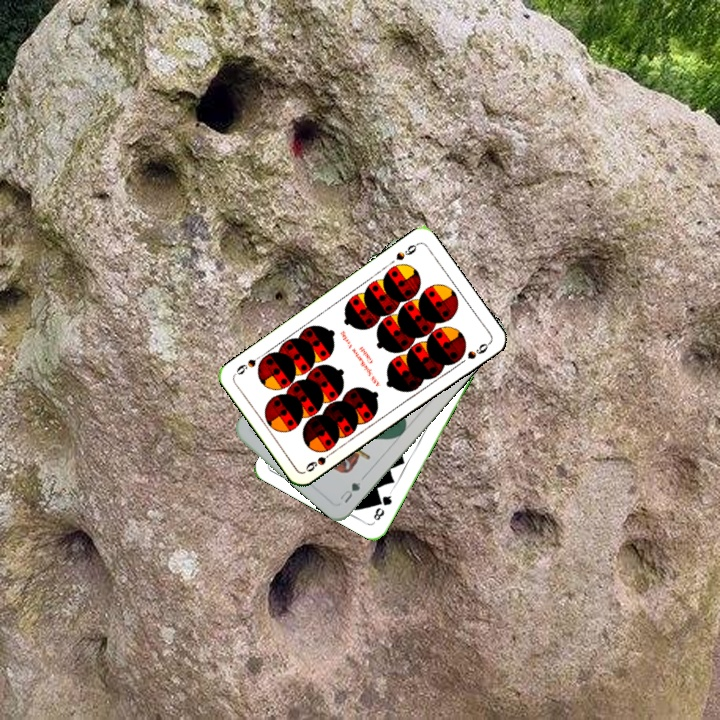G8: (369, 487, 395, 523)
GU: (336, 478, 363, 506)
S9: (301, 446, 337, 475), (392, 239, 421, 263)
